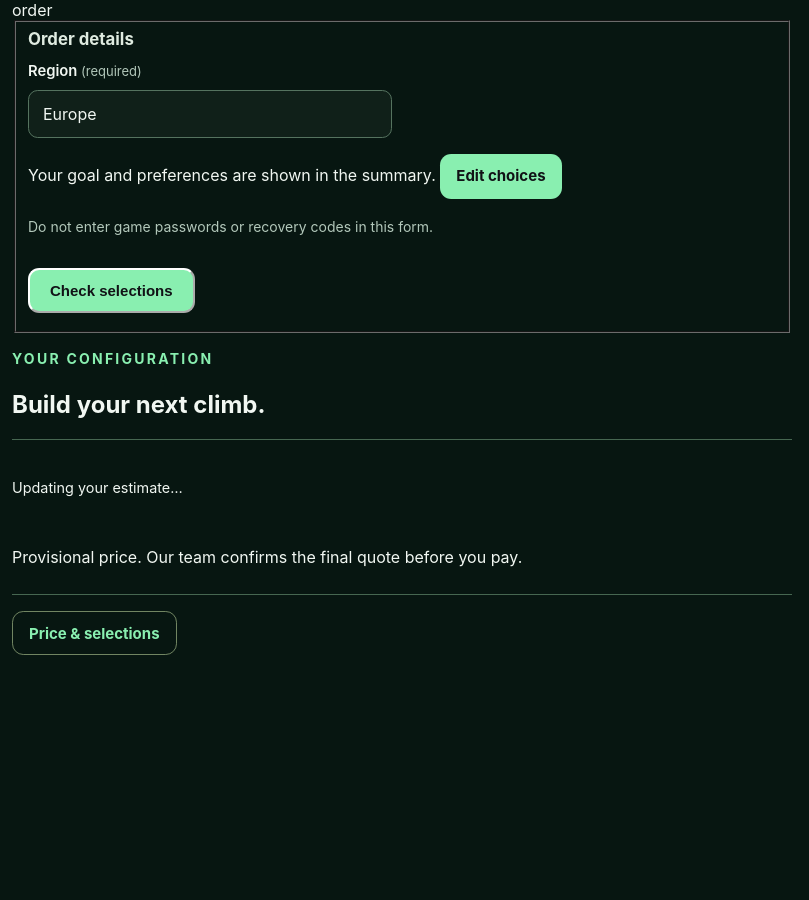
retains and focuses rejected goal across its real journey transition
Click the button "Check selections". click: click(111, 290)
box: [28,268,195,313]
(page scrolled)
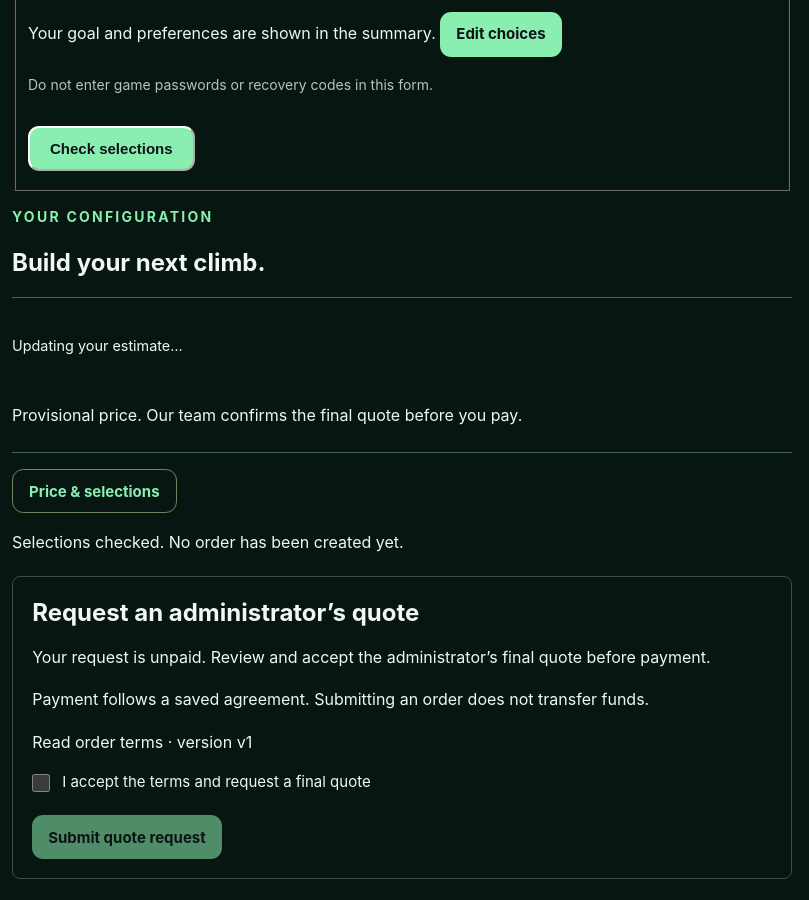
Click the checkbox. click: click(41, 783)
box: [32,774,50,792]
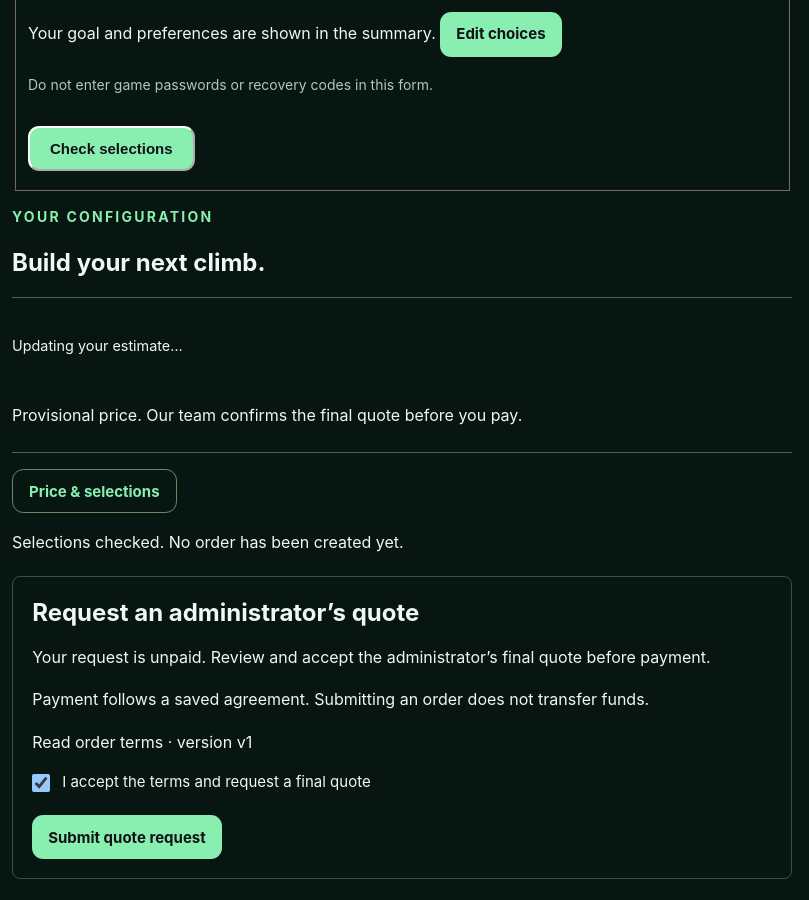
Click the button "Submit quote request". click: click(127, 837)
box: [32,815,222,859]
(page scrolled)
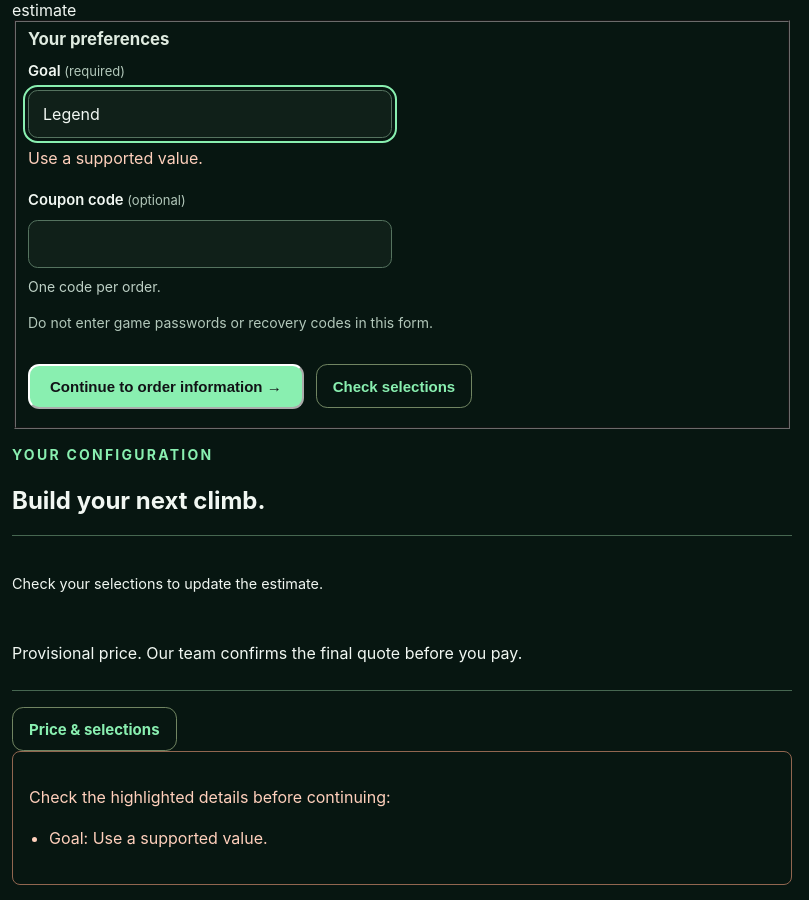
Result: the field labelled "Goal (required)" holds "Legend" at [28,90,392,138]
Result: the text with test id "stage" reads "estimate" at [12,0,76,20]
